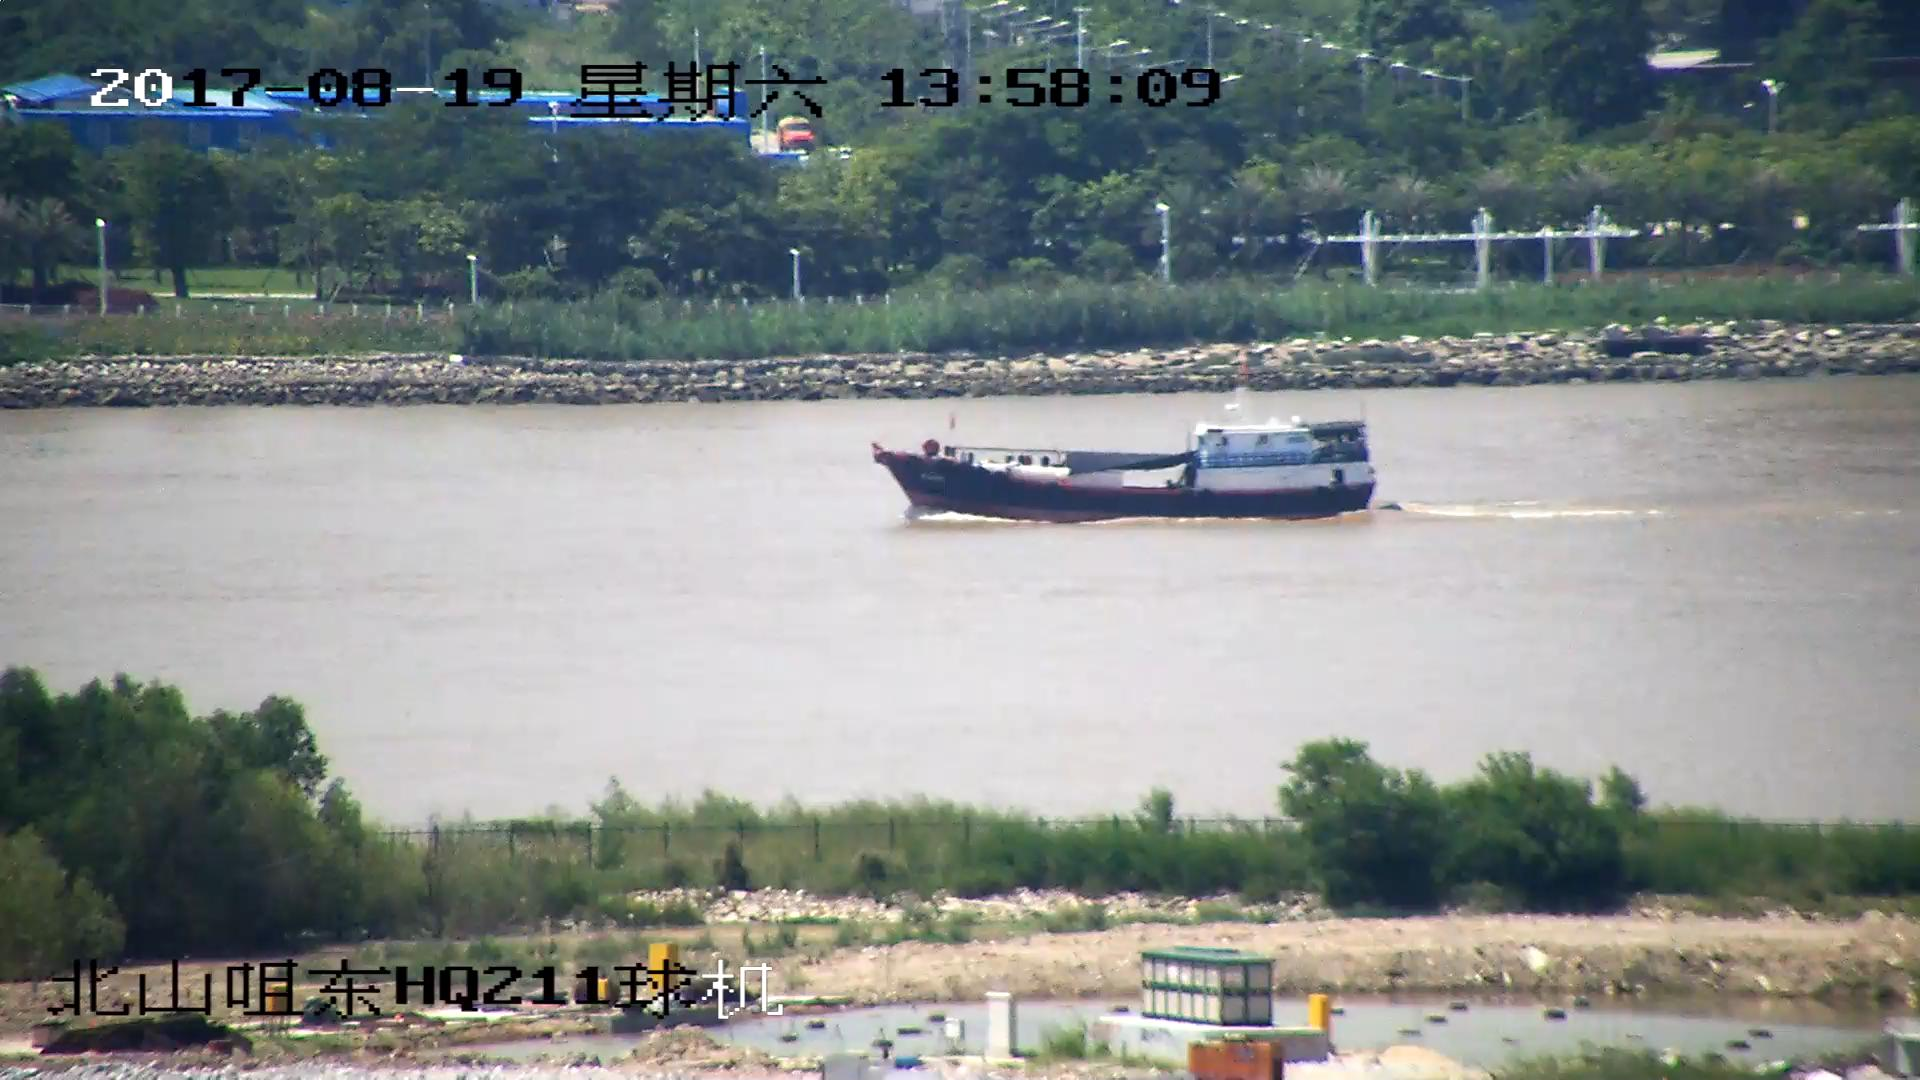fishing boat: (866, 414, 1382, 521)
